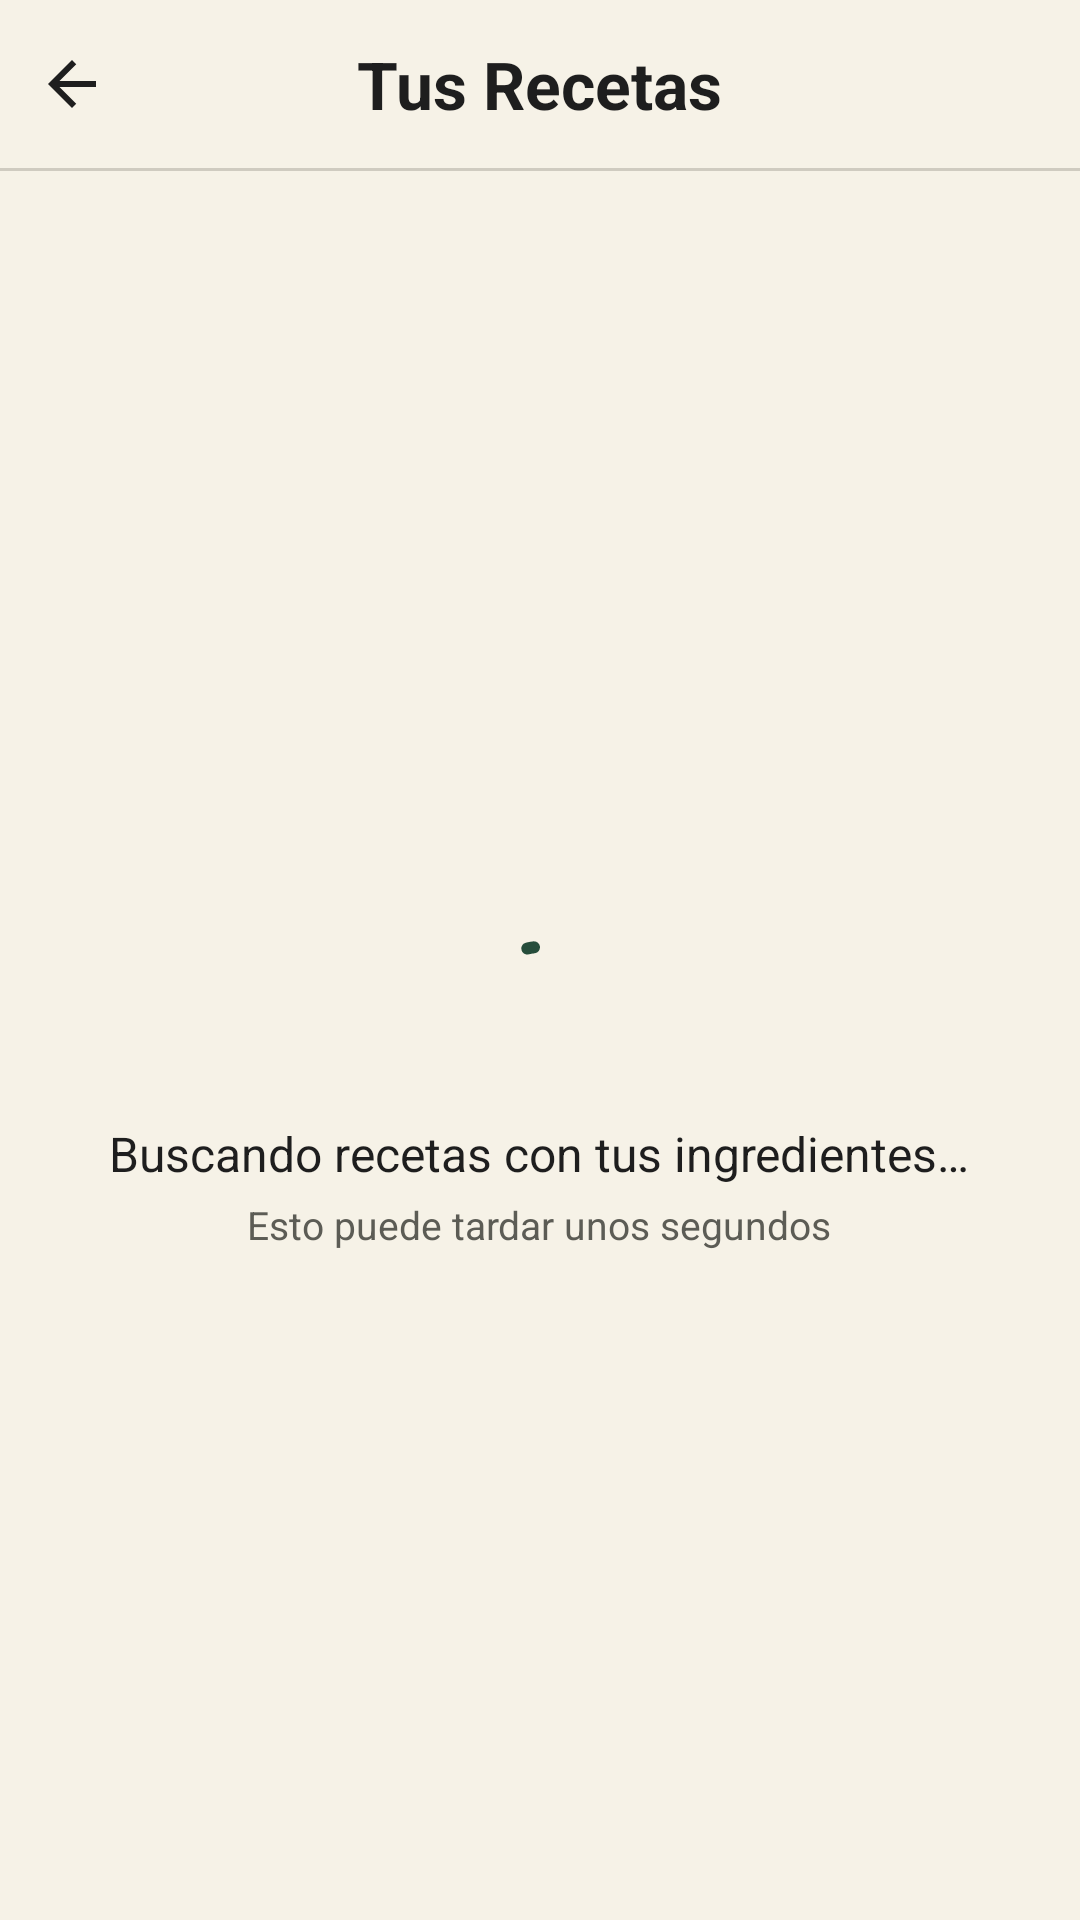

Where to tap for icons on this 1080px×1920px app screen, as [x,y]:
Volver: [72,84]
